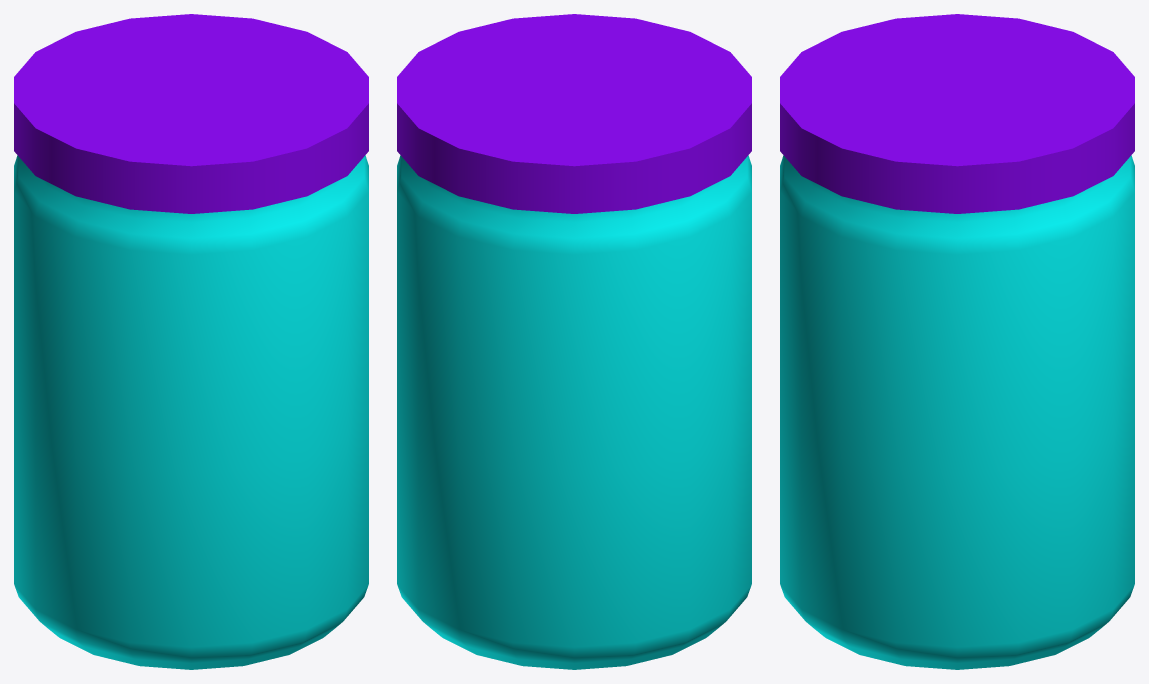
File: PillBottlev1.fbx
3 views of the same model, side by side, from view 1: azimuth 30°, elevation 25°; view 2: azimuth 150°, elevation 25°; view 3: azimuth 270°, elevation 25° (orthographic).
Visible parts, largest first — view 1: Cylinder002; view 2: Cylinder002; view 3: Cylinder002.
Boxes of the visible parts, <box> form: Cylinder002: <box>14,14,368,669</box>; Cylinder002: <box>397,14,751,669</box>; Cylinder002: <box>780,14,1134,669</box>.
Size of the model in its own units: 72.53 by 114 by 71.43.
